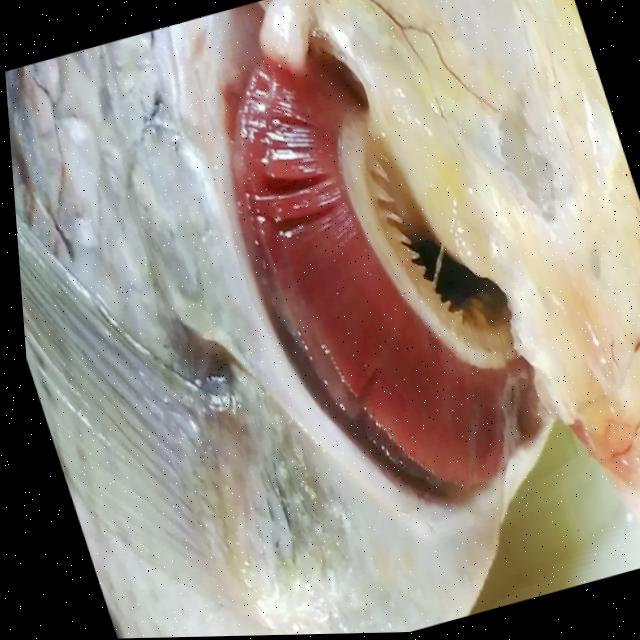Fresh: (152, 0, 636, 578)
